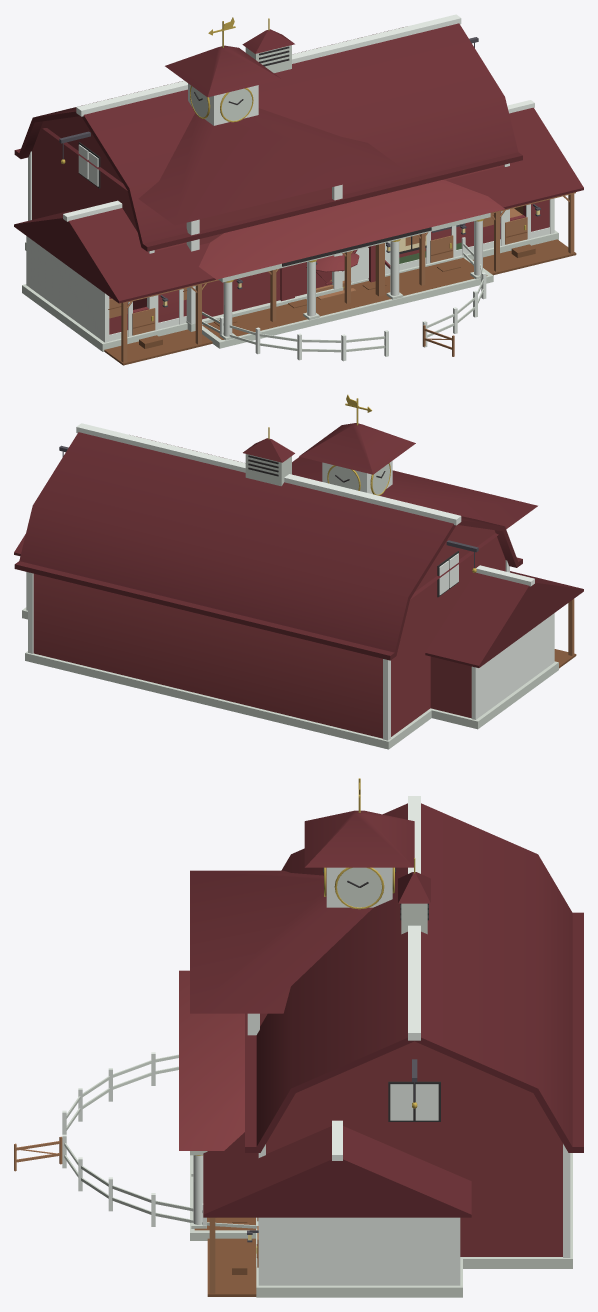
The model's file is downs-stable.glb.
3 renders of one model, top to bottom at view 1: azimuth 30°, elevation 25°; view 2: azimuth 150°, elevation 25°; view 3: azimuth 270°, elevation 25°, orthographic. The views are drawn at different scales.
Parts seen in each view (by area): view 1: dn_hay_barn_barn2, dn_stable_corner_barn2, dn_stable_6_barn2, dn_pavilion_barn, dn_hay_barn_barn, dn_stable_6_mint, dn_hay_barn_mint, dn_stable_6_saddle, dn_stable_corner_barn, dn_pavilion_saddle2, dn_stable_6_saddle2, dn_pavilion_mint2 (+17 smaller); view 2: dn_hay_barn_barn2, dn_hay_barn_barn, dn_stable_corner_barn2, dn_stable_6_barn2, dn_hay_barn_mint, dn_hay_barn_mint2, dn_stable_6_mint, dn_stable_6_barn, dn_stable_6_mint2, dn_stable_corner_mint2, dn_hay_barn_black, dn_stable_corner_mint; view 3: dn_hay_barn_barn2, dn_hay_barn_barn, dn_stable_corner_barn2, dn_stable_6_barn2, dn_stable_6_mint, dn_pavilion_barn, dn_hay_barn_mint, dn_stable_6_mint2, dn_stable_6_saddle2, dn_hay_barn_mint2, dn_lunge_ring_mint2, dn_stable_corner_mint2 (+5 smaller).
Part boxes in pixels (x1,y1,x2,y2): dn_hay_barn_barn2: (14,23,522,251); dn_stable_corner_barn2: (42,45,403,225); dn_stable_6_barn2: (14,107,583,303); dn_pavilion_barn: (199,180,504,279); dn_hay_barn_barn: (32,116,504,322); dn_stable_6_mint: (26,100,554,342); dn_hay_barn_mint: (28,14,509,331); dn_stable_6_saddle: (109,192,575,362); dn_stable_corner_barn: (199,187,331,319); dn_pavilion_saddle2: (202,258,487,339); dn_stable_6_saddle2: (104,215,576,365); dn_pavilion_mint2: (202,213,493,348); dn_hay_barn_barn2: (14,432,522,660); dn_hay_barn_barn: (33,525,505,738); dn_stable_corner_barn2: (292,423,537,599); dn_stable_6_barn2: (14,534,583,667); dn_hay_barn_mint: (28,423,509,740); dn_hay_barn_mint2: (25,454,432,749); dn_stable_6_mint: (26,565,554,719); dn_stable_6_barn: (430,656,471,718); dn_stable_6_mint2: (22,607,558,729); dn_stable_corner_mint2: (328,464,389,494); dn_hay_barn_black: (248,455,458,597); dn_stable_corner_mint: (322,461,392,494); dn_hay_barn_barn2: (245,803,583,1152); dn_hay_barn_barn: (266,1041,562,1256); dn_stable_corner_barn2: (190,810,414,1013); dn_stable_6_barn2: (203,1126,471,1217); dn_stable_6_mint: (258,1120,460,1285); dn_pavilion_barn: (179,970,244,1150); dn_hay_barn_mint: (258,796,570,1257); dn_stable_6_mint2: (256,1259,462,1297); dn_stable_6_saddle2: (207,1217,257,1296); dn_hay_barn_mint2: (256,903,572,1268); dn_lunge_ring_mint2: (64,1054,258,1228); dn_stable_corner_mint2: (337,867,381,907).
Bounding box in the file's own units: 31.4 × 16.92 × 25.91.
